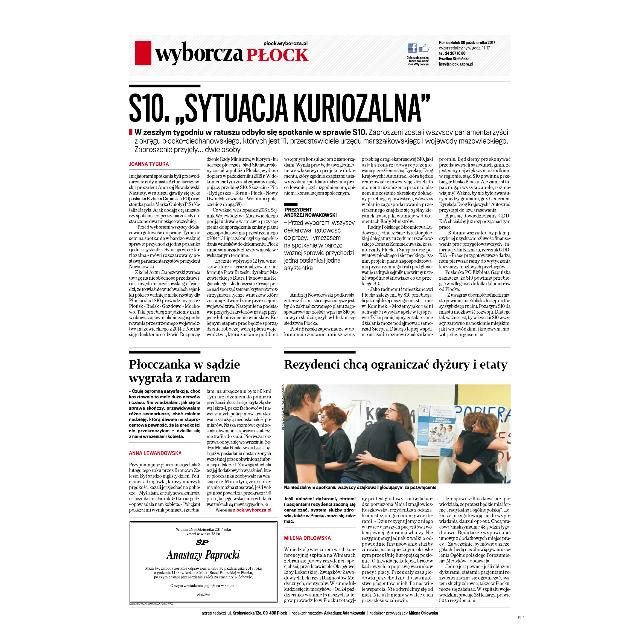article: (126, 83, 512, 341), (282, 350, 514, 604), (127, 350, 275, 514)
